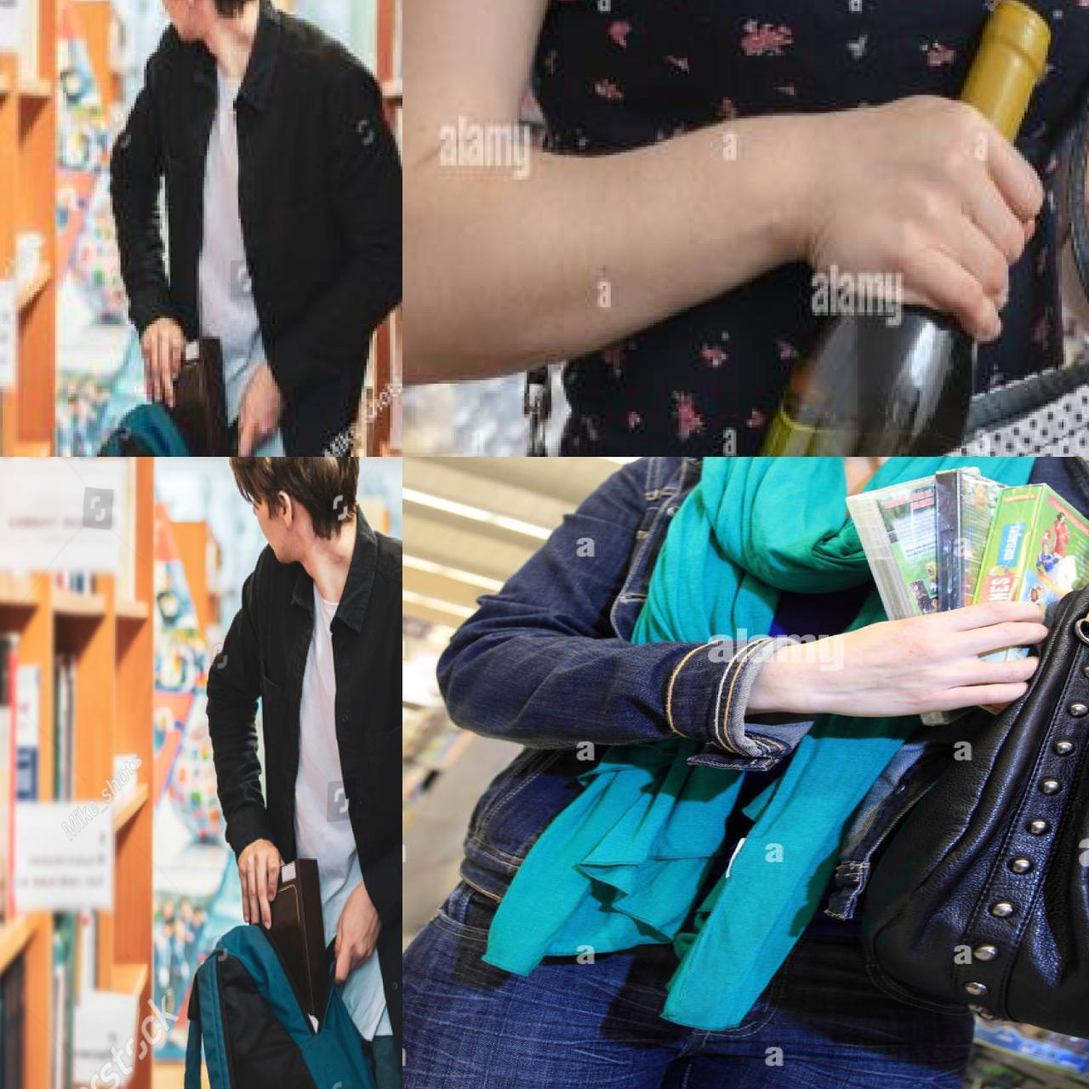shoplifting: (410, 457, 1089, 1089), (0, 608, 403, 1089)
